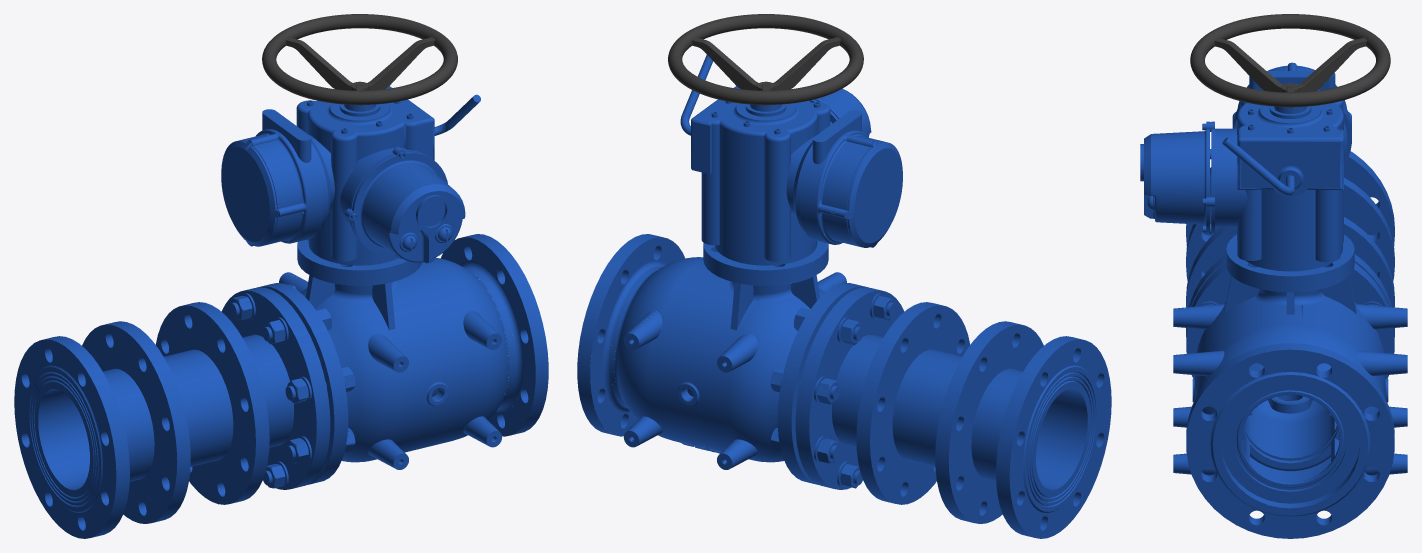
File: 电动活塞式调节阀+伸缩节.glb
3 renders of one model, left to right at view 1: azimuth 30°, elevation 25°; view 2: azimuth 150°, elevation 25°; view 3: azimuth 270°, elevation 25°, orthographic. The views are drawn at different scales.
Visible parts, largest first — view 1: 电动活塞调节阀加伸缩节.SLDPRT; view 2: 电动活塞调节阀加伸缩节.SLDPRT; view 3: 电动活塞调节阀加伸缩节.SLDPRT.
Boxes of the visible parts, x1,y1,x2,y2 form: 电动活塞调节阀加伸缩节.SLDPRT: (14, 14, 548, 538); 电动活塞调节阀加伸缩节.SLDPRT: (577, 14, 1111, 538); 电动活塞调节阀加伸缩节.SLDPRT: (1140, 14, 1407, 538).
Bounding box in the file's own units: 0.702 × 0.6265 × 0.365.
